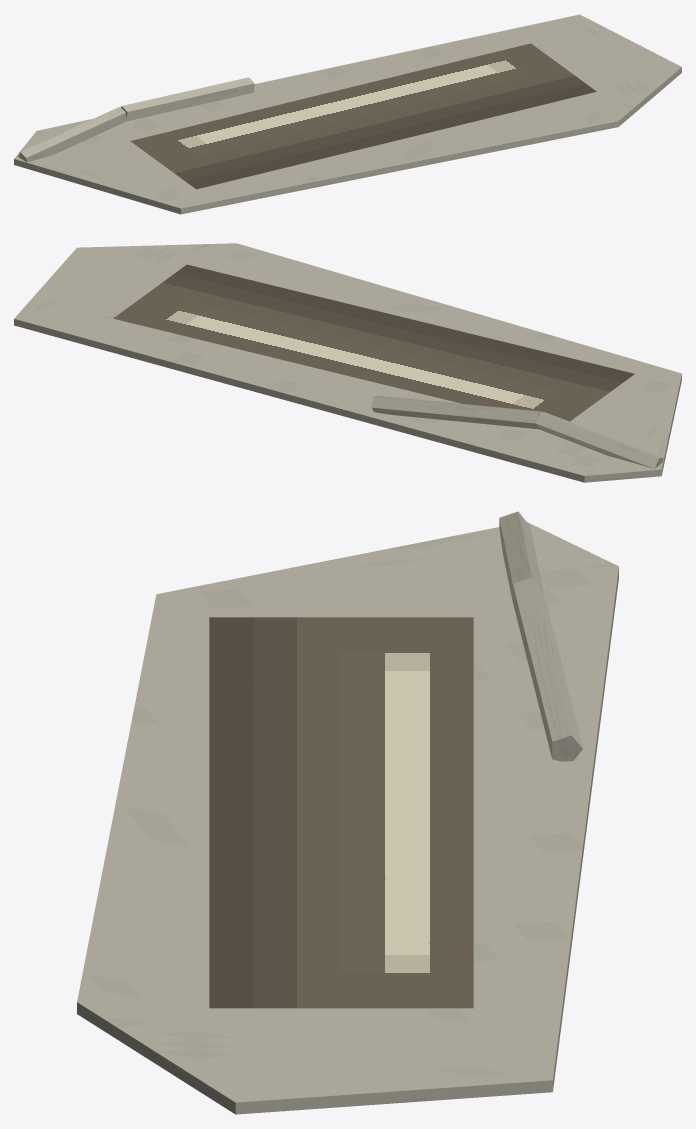
Rendered from wrapper_bar.glb.
3 renders of one model, top to bottom at view 1: azimuth 30°, elevation 25°; view 2: azimuth 150°, elevation 25°; view 3: azimuth 270°, elevation 25°, orthographic. The views are drawn at different scales.
Visible parts, largest first — view 1: block_flattened torn wrapper, block_creased print, block_folded seam 1, block_folded seam 0; view 2: block_flattened torn wrapper, block_creased print, block_folded seam 1, block_folded seam 0; view 3: block_flattened torn wrapper, block_creased print, block_folded seam 1, block_folded seam 0.
Part boxes in pixels (x1,y1,x2,y2): block_flattened torn wrapper: [14, 14, 681, 214]; block_creased print: [130, 43, 596, 189]; block_folded seam 1: [121, 77, 254, 121]; block_folded seam 0: [18, 107, 126, 162]; block_flattened torn wrapper: [14, 243, 681, 482]; block_creased print: [113, 264, 634, 421]; block_folded seam 1: [371, 395, 542, 428]; block_folded seam 0: [536, 412, 663, 468]; block_flattened torn wrapper: [77, 522, 618, 1114]; block_creased print: [209, 617, 473, 1008]; block_folded seam 1: [512, 577, 582, 761]; block_folded seam 0: [499, 511, 543, 600].
Size of the model in its own units: 0.104 by 0.00545 by 0.041.
Materials: 1 (1 with a texture image).
